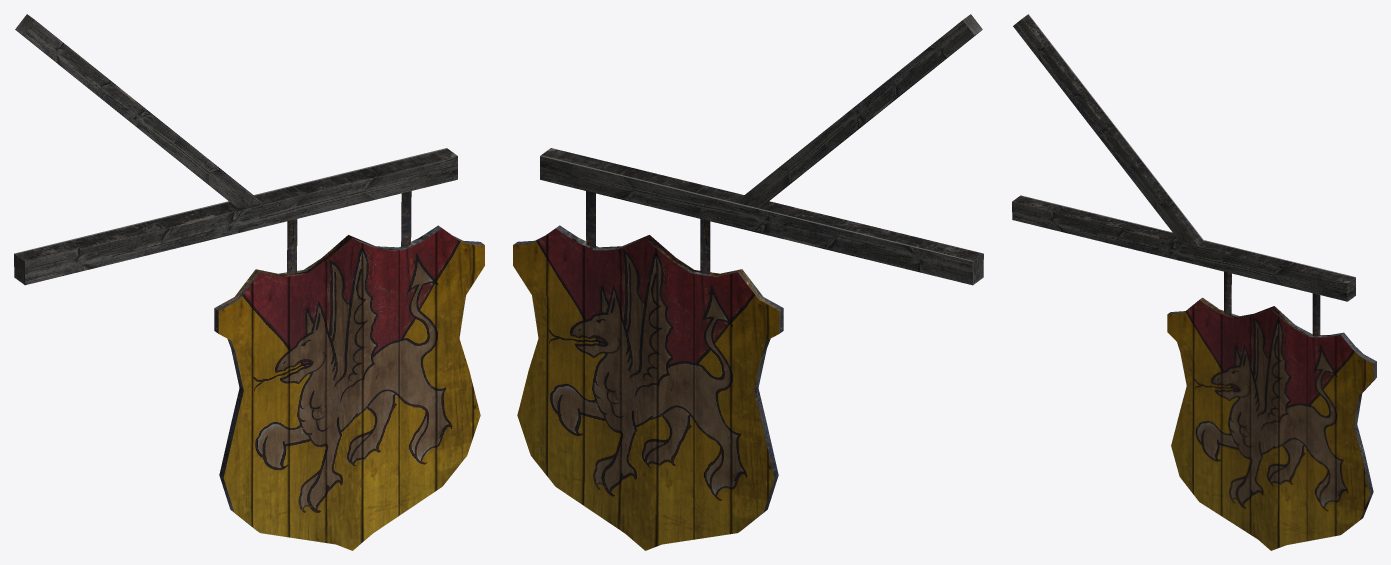
Rendered from emblem02_LOD02.fbx.
3 views of the same model, side by side, from view 1: azimuth 30°, elevation 25°; view 2: azimuth 150°, elevation 25°; view 3: azimuth 330°, elevation 25° (orthographic). The views are drawn at different scales.
Visible parts, largest first — view 1: Mesh Object; view 2: Mesh Object; view 3: Mesh Object.
Boxes of the visible parts, x1,y1,x2,y2 form: Mesh Object: [14, 14, 484, 550]; Mesh Object: [513, 14, 983, 550]; Mesh Object: [1012, 14, 1376, 550].
Size of the model in its own units: 1.52 by 1.91 by 0.0628.
